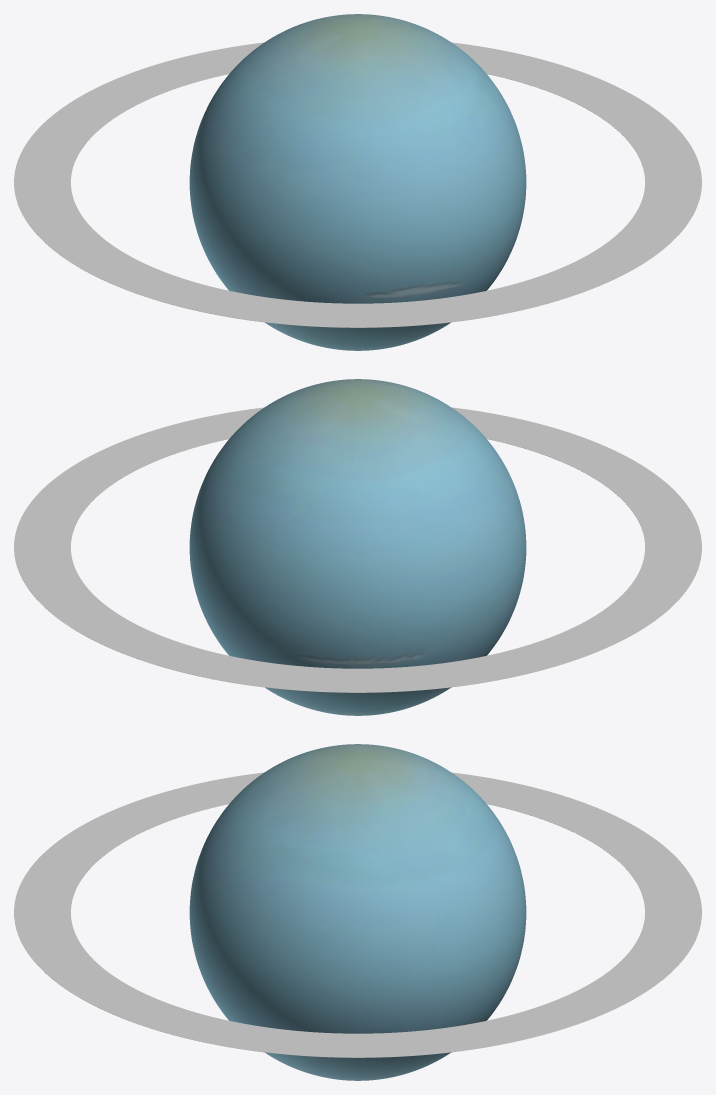
3 renders of one model, top to bottom at view 1: azimuth 30°, elevation 25°; view 2: azimuth 150°, elevation 25°; view 3: azimuth 270°, elevation 25°, orthographic.
Parts seen in each view (by area): view 1: pSphere1.1, pPlane1.2; view 2: pSphere1.1, pPlane1.2; view 3: pSphere1.1, pPlane1.2.
Boxes of the visible parts, x1,y1,x2,y2 form: pSphere1.1: (189,14,526,350); pPlane1.2: (14,42,701,327); pSphere1.1: (189,379,526,715); pPlane1.2: (14,407,701,692); pSphere1.1: (189,744,526,1080); pPlane1.2: (14,772,701,1057).
Size of the model in its own units: 4086 by 2000 by 4086.
